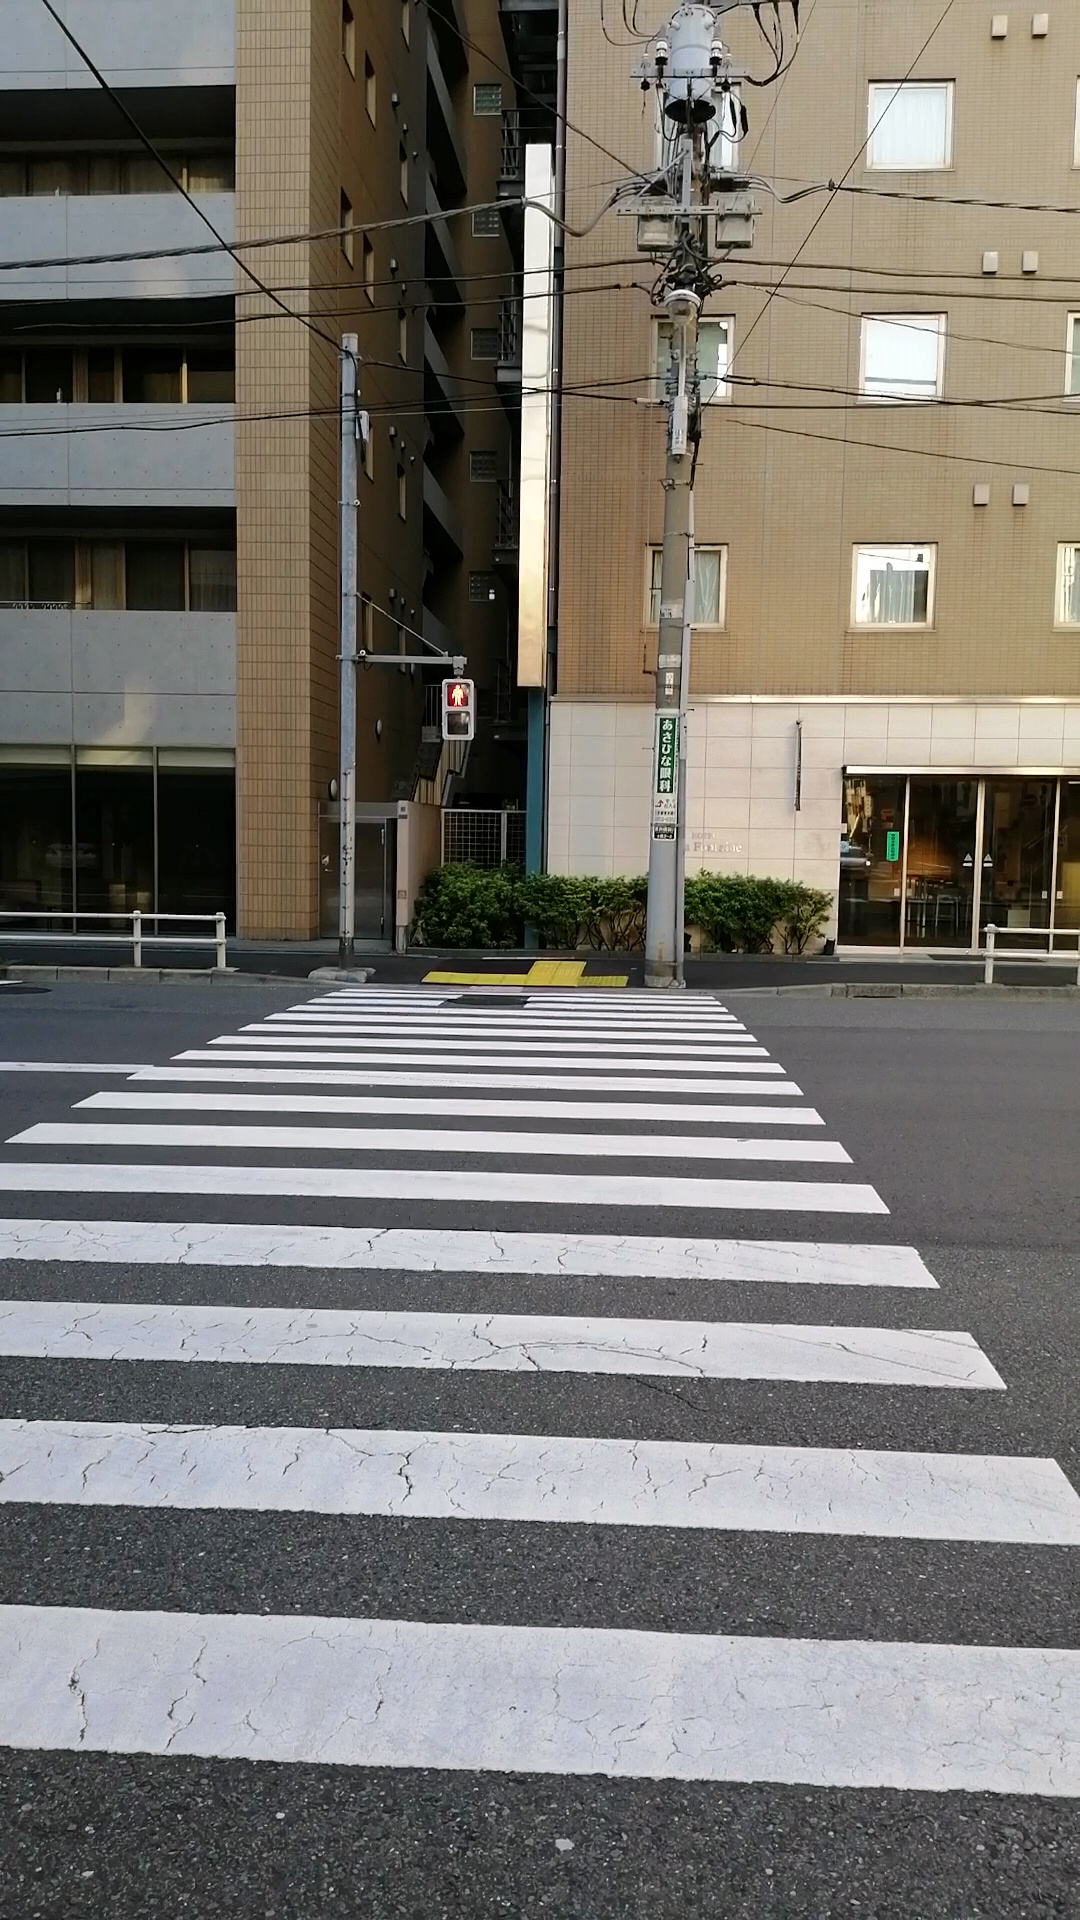red: (440, 676, 473, 741)
